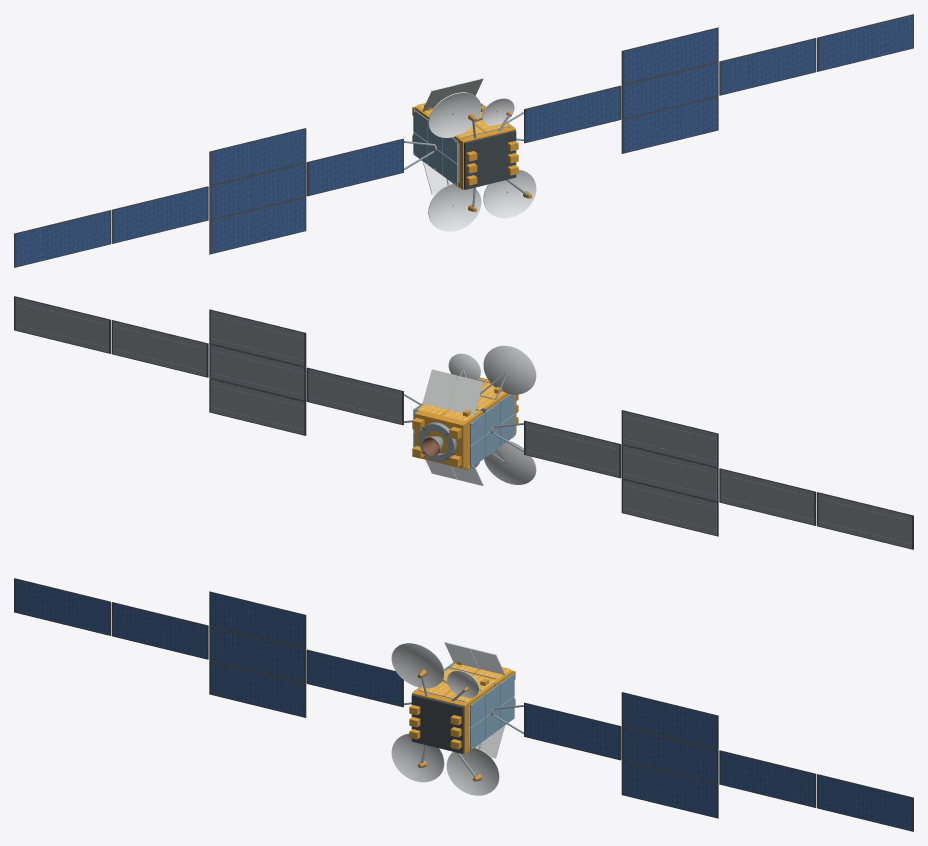
Rendered from spacebus-4000c3-broad.glb.
3 renders of one model, top to bottom at view 1: azimuth 30°, elevation 25°; view 2: azimuth 150°, elevation 25°; view 3: azimuth 330°, elevation 25°, orthographic.
Visible parts, largest first — view 1: Solar cell panel (×12), Communications reflector (×4), Earth-facing deck, Payload module; view 2: Rear array substrate (×12), Communications reflector (×3), Deployed radiator leaf (×2), Service module, Launch adapter ring; view 3: Solar cell panel (×12), Communications reflector (×4), Earth-facing deck, Payload module.
Boxes of the visible parts, <box> form: Solar cell panel (×12): <box>16,15,912,266</box>; Communications reflector (×4): <box>428,92,536,231</box>; Earth-facing deck: <box>464,130,516,189</box>; Payload module: <box>453,118,515,189</box>; Rear array substrate (×12): <box>15,297,911,548</box>; Communications reflector (×3): <box>448,345,536,484</box>; Deployed radiator leaf (×2): <box>422,369,483,416</box>; Service module: <box>414,410,482,468</box>; Launch adapter ring: <box>418,422,456,462</box>; Solar cell panel (×12): <box>15,579,911,830</box>; Communications reflector (×4): <box>391,643,499,795</box>; Earth-facing deck: <box>411,694,463,753</box>; Payload module: <box>412,681,494,753</box>.
Bounding box in the file's own units: 33.96 × 4.96 × 4.11.
11 materials, 2 textured.
